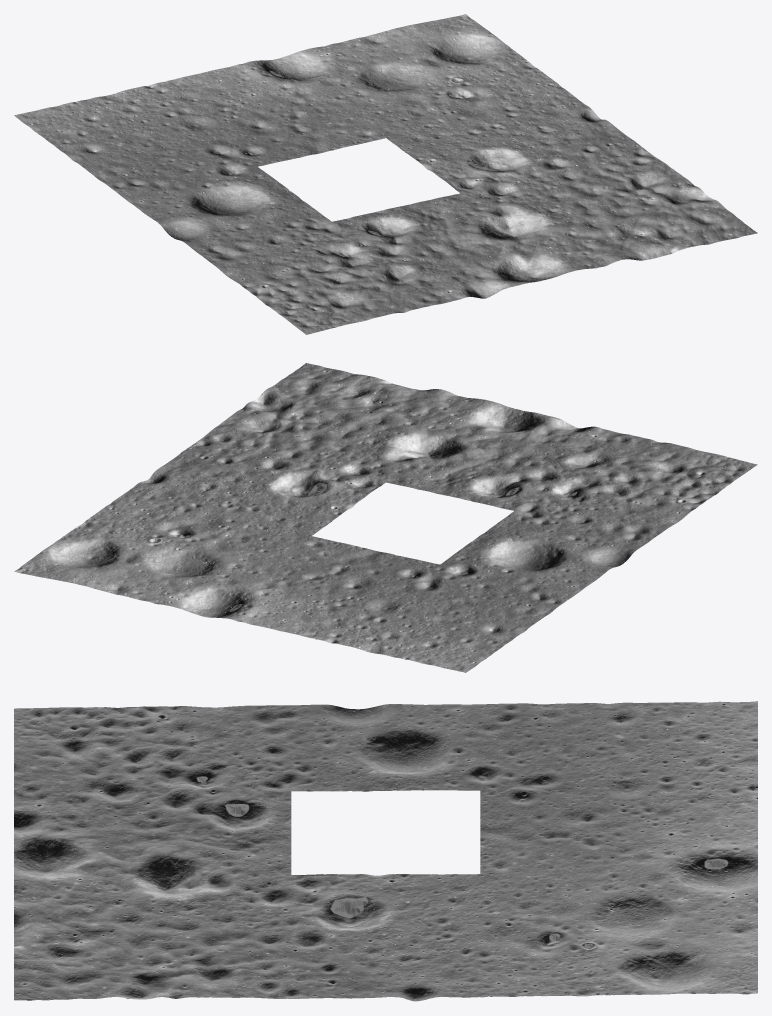
File: near-low.glb
The picture shows the model from 3 angles, top to bottom: view 1: azimuth 30°, elevation 25°; view 2: azimuth 150°, elevation 25°; view 3: azimuth 270°, elevation 25°; orthographic projection. The views are drawn at different scales.
Parts seen in each view (by area): view 1: near; view 2: near; view 3: near.
Boxes of the visible parts, x1=… form: near: x1=14, y1=14, x2=757, y2=334; near: x1=14, y1=363, x2=757, y2=672; near: x1=14, y1=701, x2=757, y2=1001.
Size of the model in its own units: 4230 by 155 by 4738.
1 material, 1 textured.
